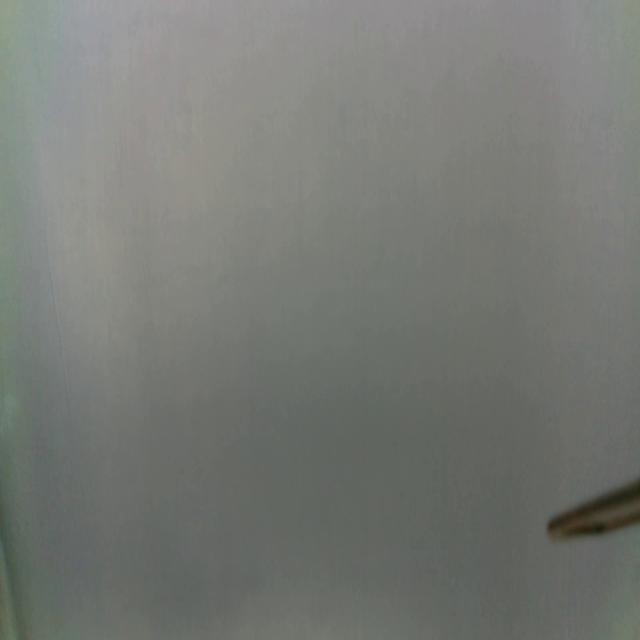crease: (44, 238, 74, 427)
